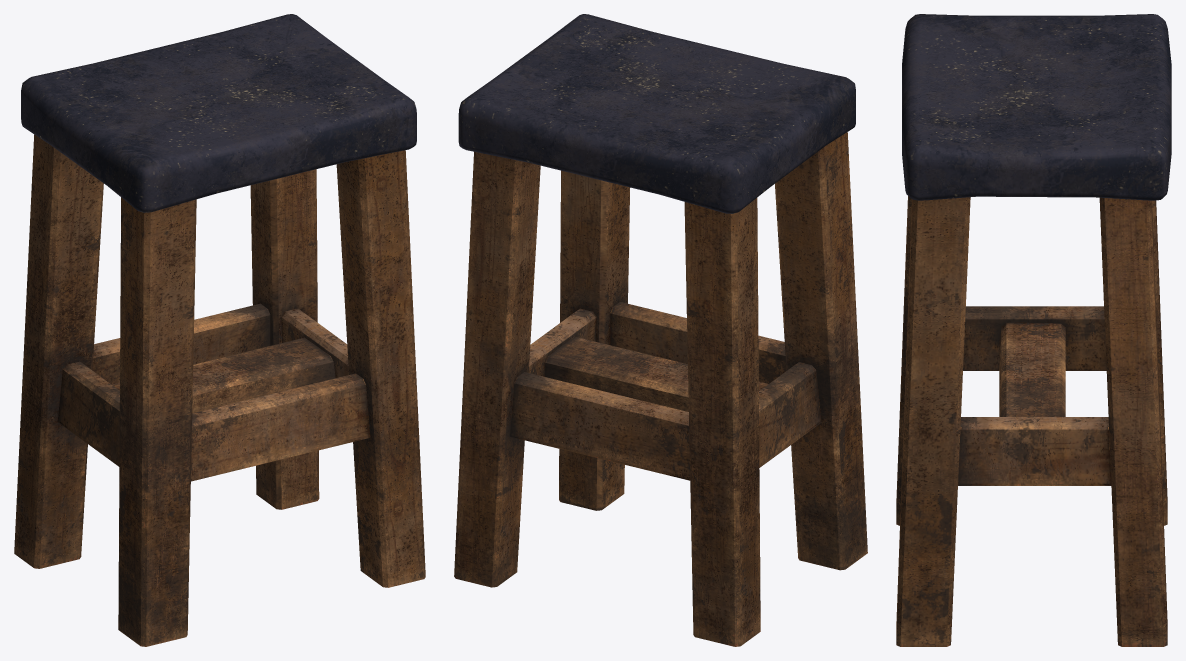
File: Stool_B.fbx
3 views of the same model, side by side, from view 1: azimuth 30°, elevation 25°; view 2: azimuth 150°, elevation 25°; view 3: azimuth 270°, elevation 25° (orthographic). The views are drawn at different scales.
Parts seen in each view (by area): view 1: Stool_B; view 2: Stool_B; view 3: Stool_B.
Boxes of the visible parts, <box> form: Stool_B: <box>14,14,425,646</box>; Stool_B: <box>454,14,867,646</box>; Stool_B: <box>896,14,1171,646</box>.
Size of the model in its own units: 29.03 by 46.09 by 23.23.
1 material, 1 textured.
